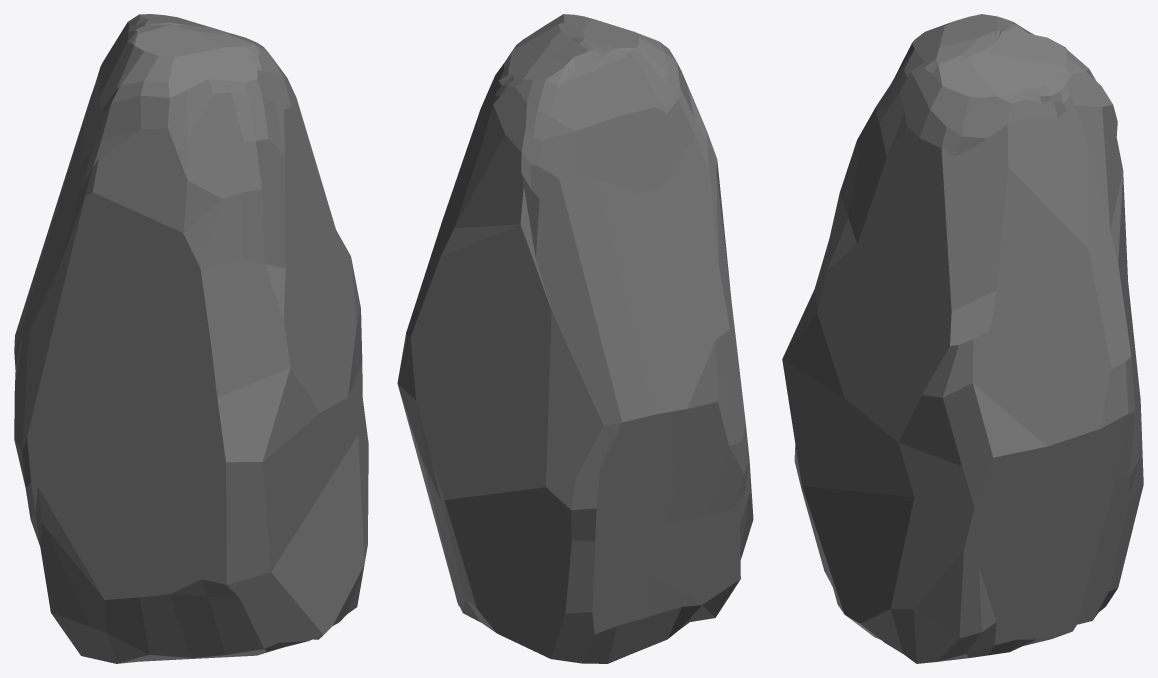
Rendered from stone1.fbx.
3 renders of one model, left to right at view 1: azimuth 30°, elevation 25°; view 2: azimuth 150°, elevation 25°; view 3: azimuth 270°, elevation 25°, orthographic. The views are drawn at different scales.
Visible parts, largest first — view 1: stone_3; view 2: stone_3; view 3: stone_3.
Boxes of the visible parts, left/top/right/bottom form: stone_3: left=14, top=14, right=368, bottom=663; stone_3: left=397, top=14, right=753, bottom=663; stone_3: left=782, top=14, right=1143, bottom=663.
Size of the model in its own units: 278 by 473 by 266.
